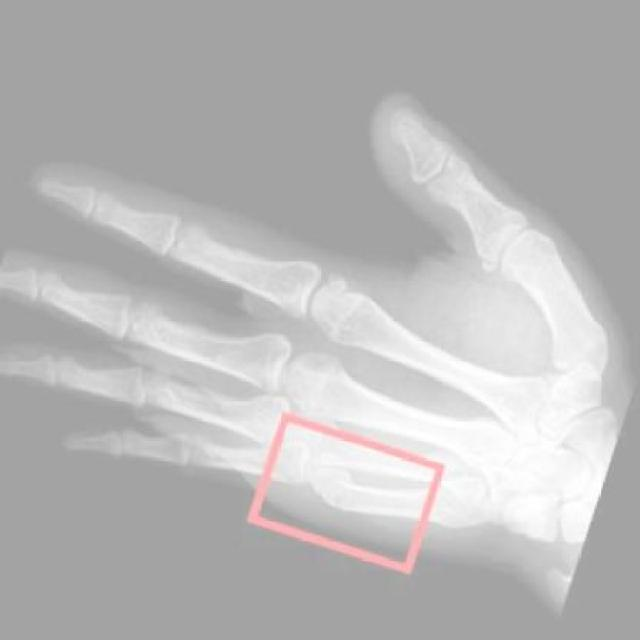Fracture: (308, 456, 370, 522)
